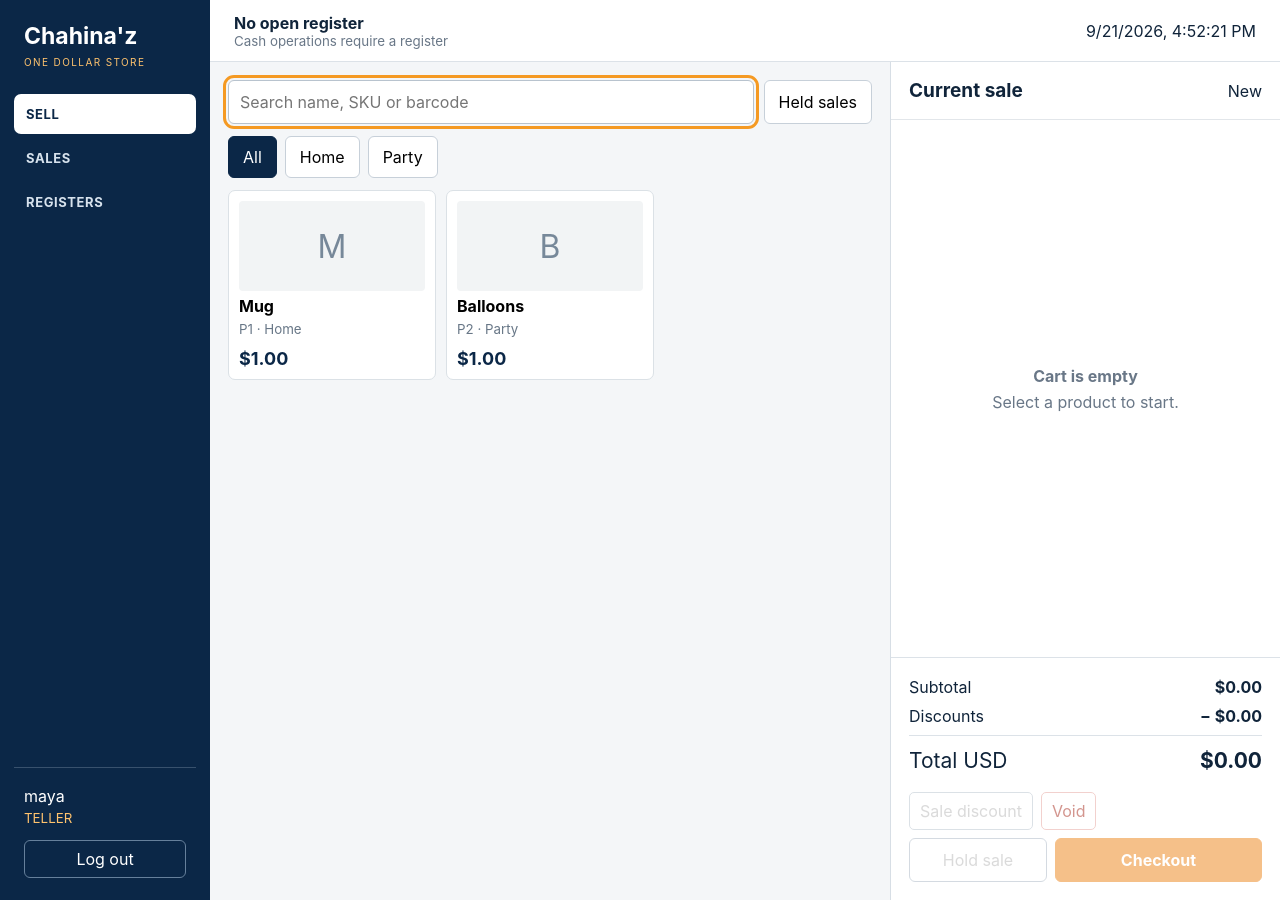
Test: catalogue and held sales › filters the catalogue by category
This screenshot has width=1280, height=900.
Click the button "Party" at (403, 157), box 368,136 -> 438,178
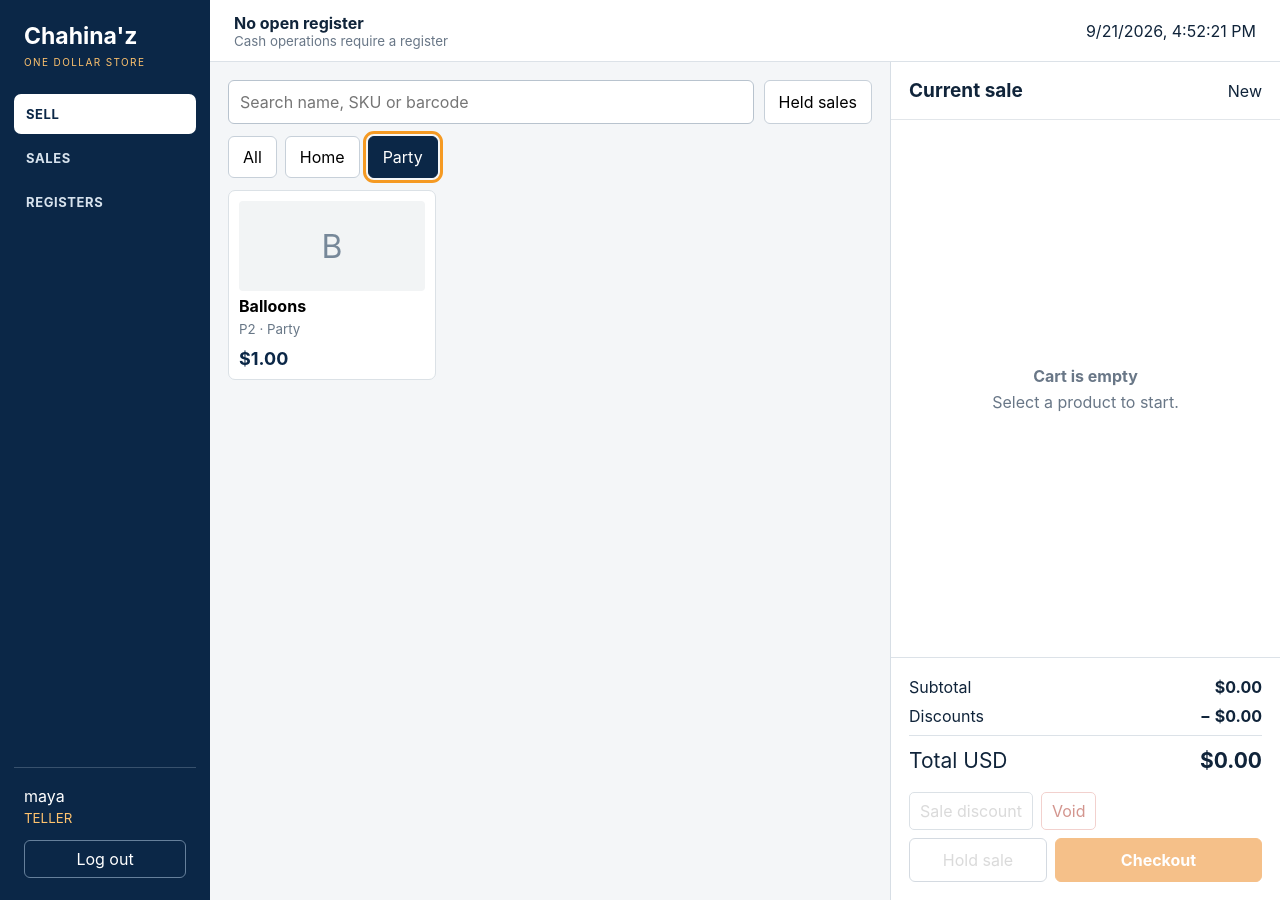
expect the text "Balloons" is shown: met, box 239,296 -> 306,316
expect the button "Mug" is gone: met
